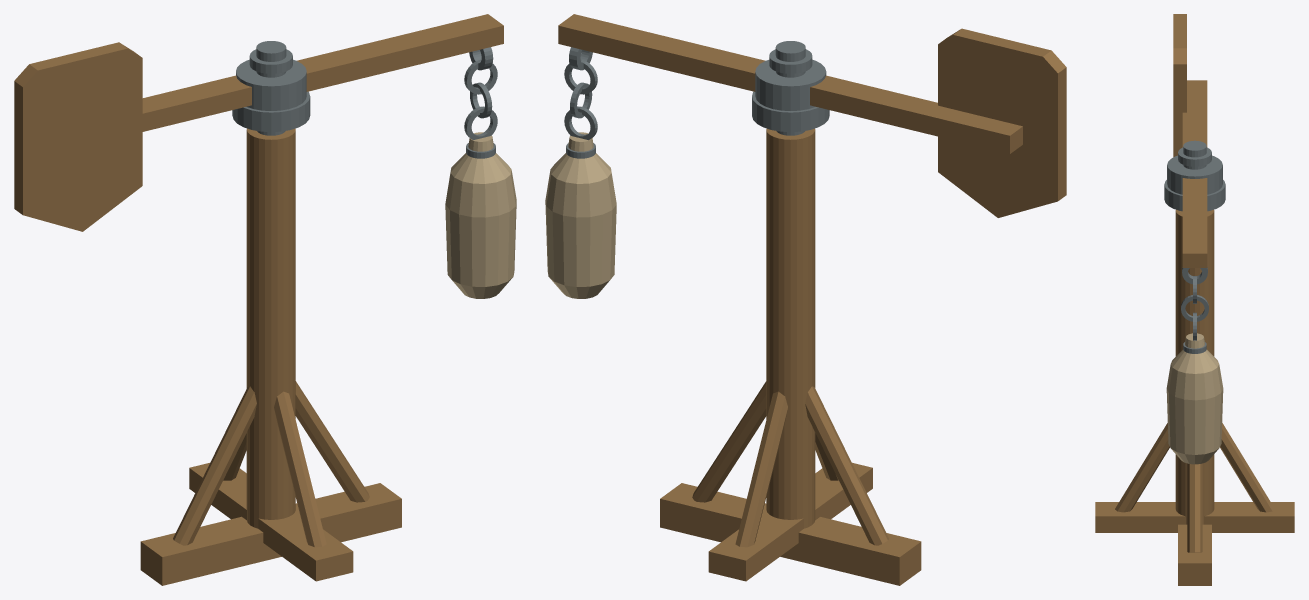
The picture shows the model from 3 angles, left to right: view 1: azimuth 30°, elevation 25°; view 2: azimuth 150°, elevation 25°; view 3: azimuth 270°, elevation 25°; orthographic projection. The views are drawn at different scales.
Visible parts, largest first — view 1: WholeWideTargetBoard, WholeVerticalPost, WholeHorizontalCrossarm, WholeTiedPendantSack, GroundCrossX, GroundCrossY, WholePostBrace1, WholePostBrace3, WholePostBrace0, WholeBoredArmHead, LowerHeadShoulder, UpperVerticalSpindle (+1 smaller); view 2: WholeWideTargetBoard, WholeVerticalPost, WholeHorizontalCrossarm, WholeTiedPendantSack, GroundCrossX, GroundCrossY, WholePostBrace1, WholePostBrace2, WholePostBrace0, WholeBoredArmHead, LowerHeadShoulder, UpperVerticalSpindle; view 3: WholeTiedPendantSack, GroundCrossY, WholeVerticalPost, WholeHorizontalCrossarm, WholeWideTargetBoard, GroundCrossX, WholePostBrace0, WholePostBrace2, WholePostBrace3, WholeBoredArmHead, LowerHeadShoulder, UpperVerticalSpindle (+2 smaller).
Boxes of the visible parts, x1,y1,x2,y2 form: WholeWideTargetBoard: [14, 42, 142, 231]; WholeVerticalPost: [246, 128, 295, 528]; WholeHorizontalCrossarm: [142, 14, 503, 131]; WholeTiedPendantSack: [445, 132, 516, 298]; GroundCrossX: [140, 483, 401, 585]; GroundCrossY: [189, 463, 353, 581]; WholePostBrace1: [173, 386, 256, 545]; WholePostBrace3: [274, 391, 326, 547]; WholePostBrace0: [295, 381, 369, 502]; WholeBoredArmHead: [236, 59, 306, 110]; LowerHeadShoulder: [232, 91, 310, 132]; UpperVerticalSpindle: [256, 41, 286, 135]; WholeWideTargetBoard: [938, 28, 1066, 217]; WholeVerticalPost: [766, 128, 815, 528]; WholeHorizontalCrossarm: [558, 14, 1022, 153]; WholeTiedPendantSack: [545, 132, 616, 298]; GroundCrossX: [660, 483, 921, 585]; GroundCrossY: [708, 462, 872, 581]; WholePostBrace1: [805, 386, 888, 545]; WholePostBrace2: [735, 391, 787, 547]; WholePostBrace0: [692, 381, 766, 502]; WholeBoredArmHead: [755, 59, 826, 110]; LowerHeadShoulder: [752, 91, 829, 132]; UpperVerticalSpindle: [775, 41, 805, 135]; WholeTiedPendantSack: [1166, 333, 1223, 464]; GroundCrossY: [1095, 502, 1294, 532]; WholeVerticalPost: [1175, 209, 1214, 524]; WholeHorizontalCrossarm: [1182, 80, 1207, 267]; WholeWideTargetBoard: [1173, 14, 1186, 157]; GroundCrossX: [1178, 524, 1211, 585]; WholePostBrace0: [1187, 463, 1202, 552]; WholePostBrace2: [1220, 423, 1274, 512]; WholePostBrace3: [1115, 423, 1169, 512]; WholeBoredArmHead: [1167, 155, 1222, 194]; LowerHeadShoulder: [1164, 180, 1225, 211]; UpperVerticalSpindle: [1183, 140, 1206, 169].
Size of the model in its own units: 2.02 by 2.1 by 0.88.
